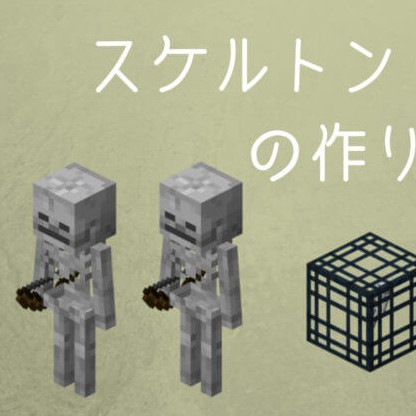skeleton: (18, 161, 129, 404)
